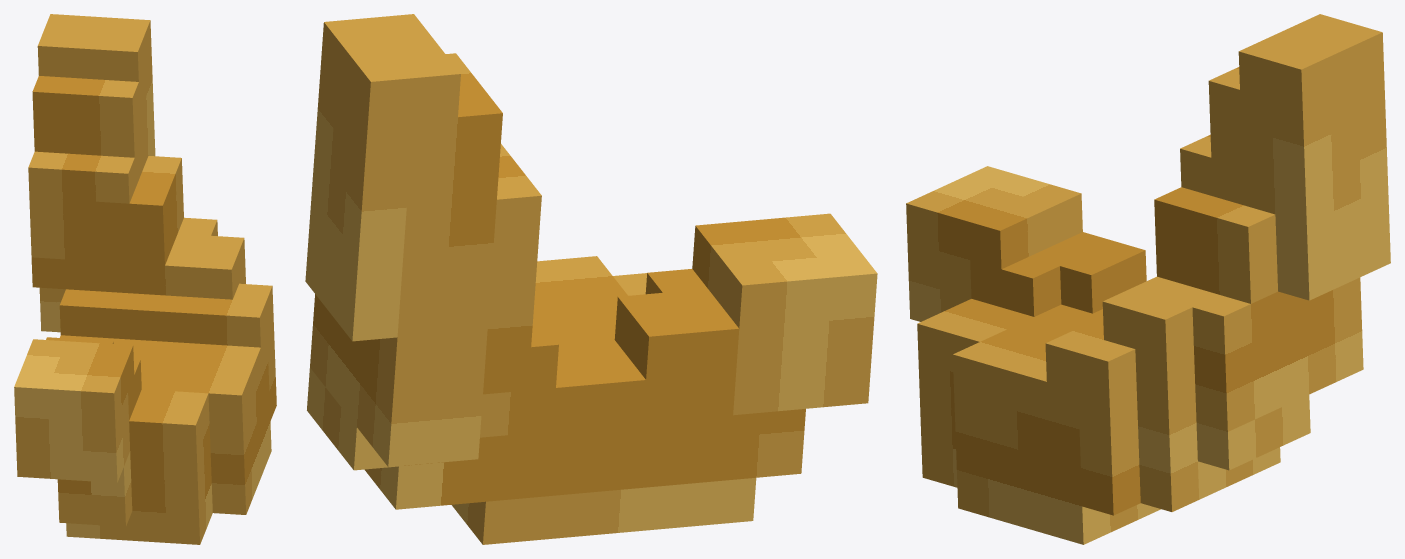
Rendered from doge-tail.gltf.
The picture shows the model from 3 angles, left to right: view 1: azimuth 30°, elevation 25°; view 2: azimuth 150°, elevation 25°; view 3: azimuth 270°, elevation 25°; orthographic projection. The views are drawn at different scales.
Parts seen in each view (by area): view 1: Equip_Hip-Local; view 2: Equip_Hip-Local; view 3: Equip_Hip-Local.
Boxes of the visible parts, left/top/right/bottom form: Equip_Hip-Local: left=14, top=14, right=276, bottom=544; Equip_Hip-Local: left=305, top=14, right=877, bottom=544; Equip_Hip-Local: left=906, top=14, right=1390, bottom=544.
Size of the model in its own units: 10.68 by 12.61 by 11.68.
Materials: 1 (1 with a texture image).
